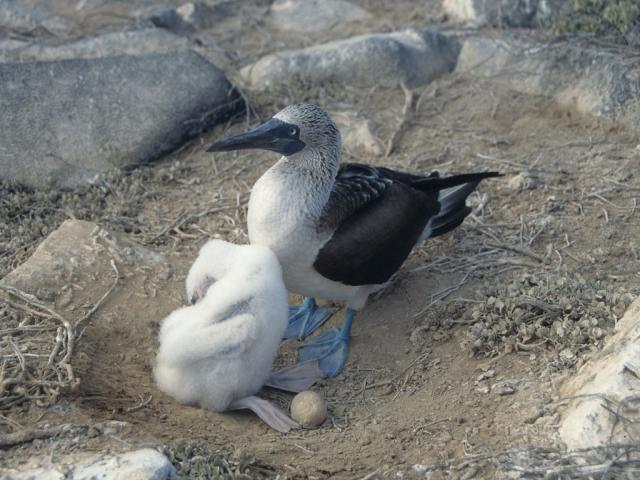Bird: (206, 103, 504, 388), (154, 232, 331, 434)
